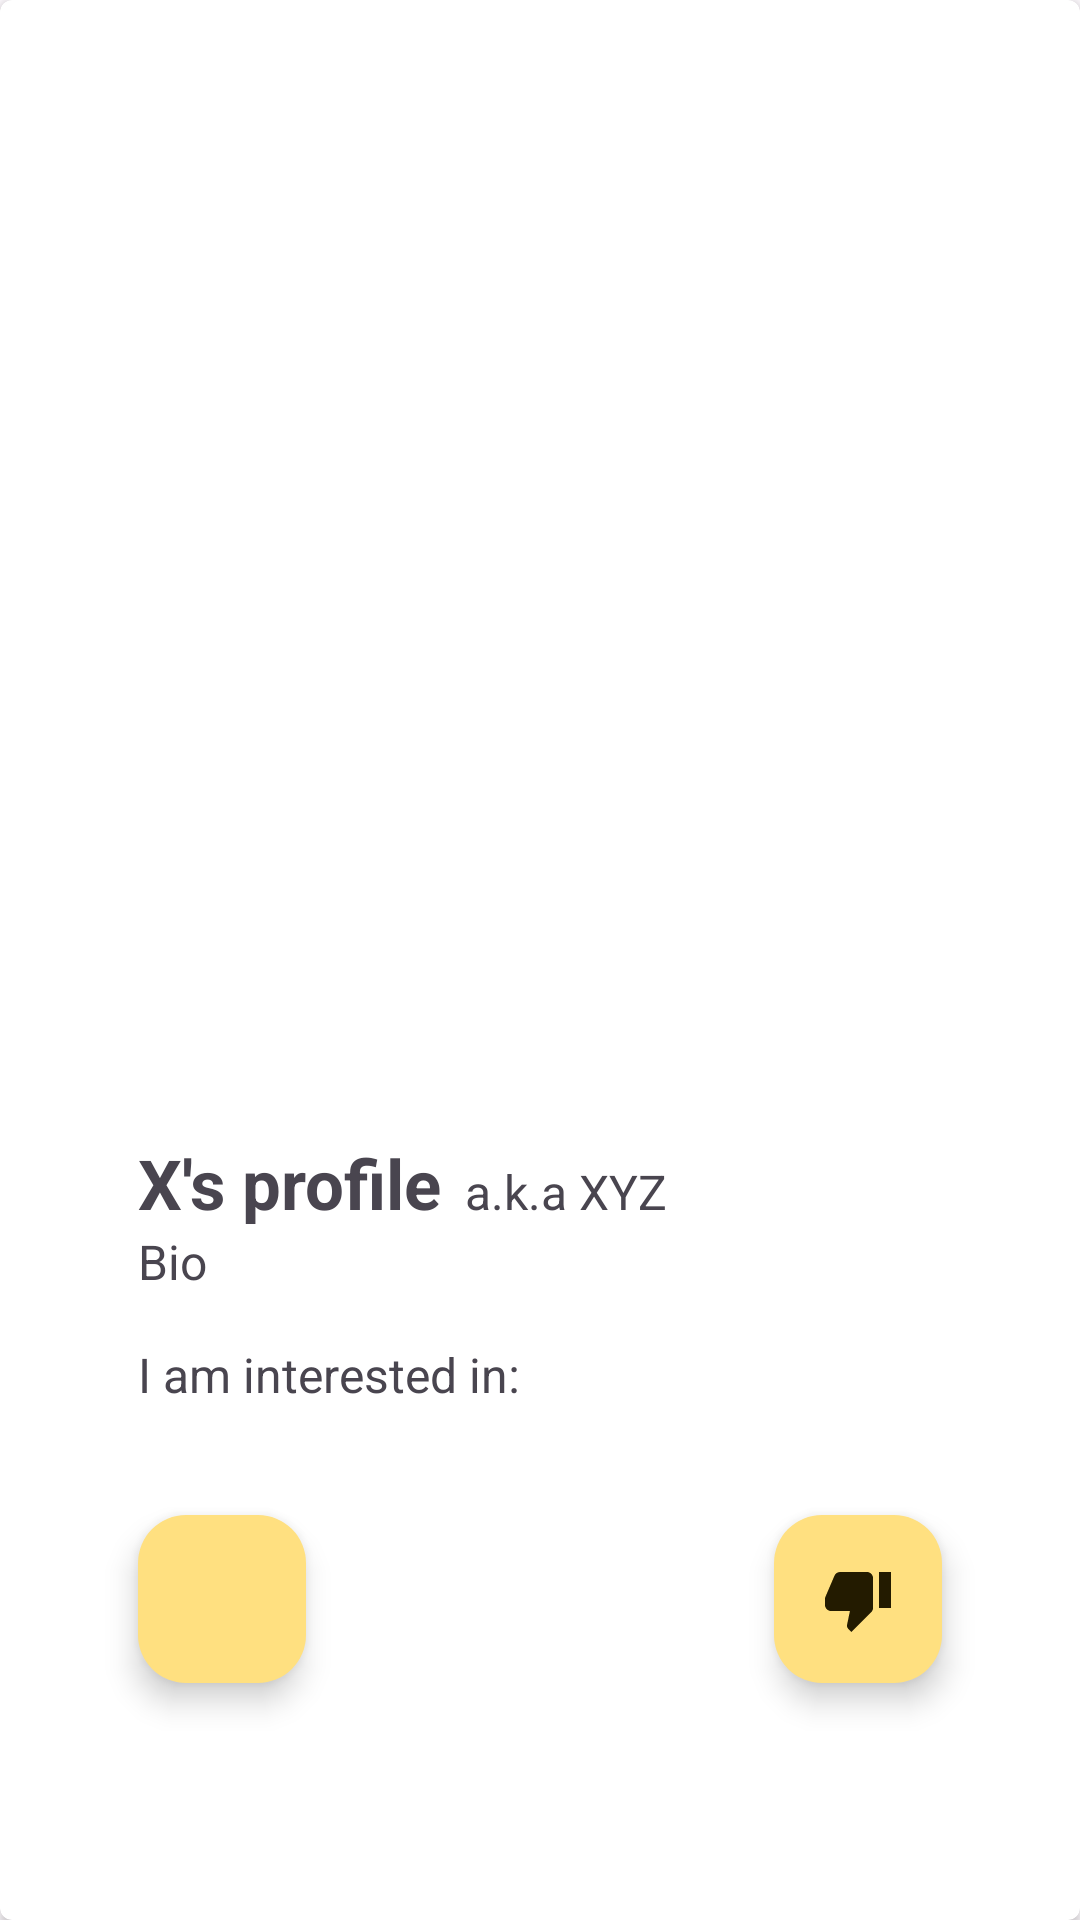

Where icons sit on this 1080 x 1920 app screen, as region(x1, y1, x2, y2):
thumb down: region(774, 1515, 942, 1683)
